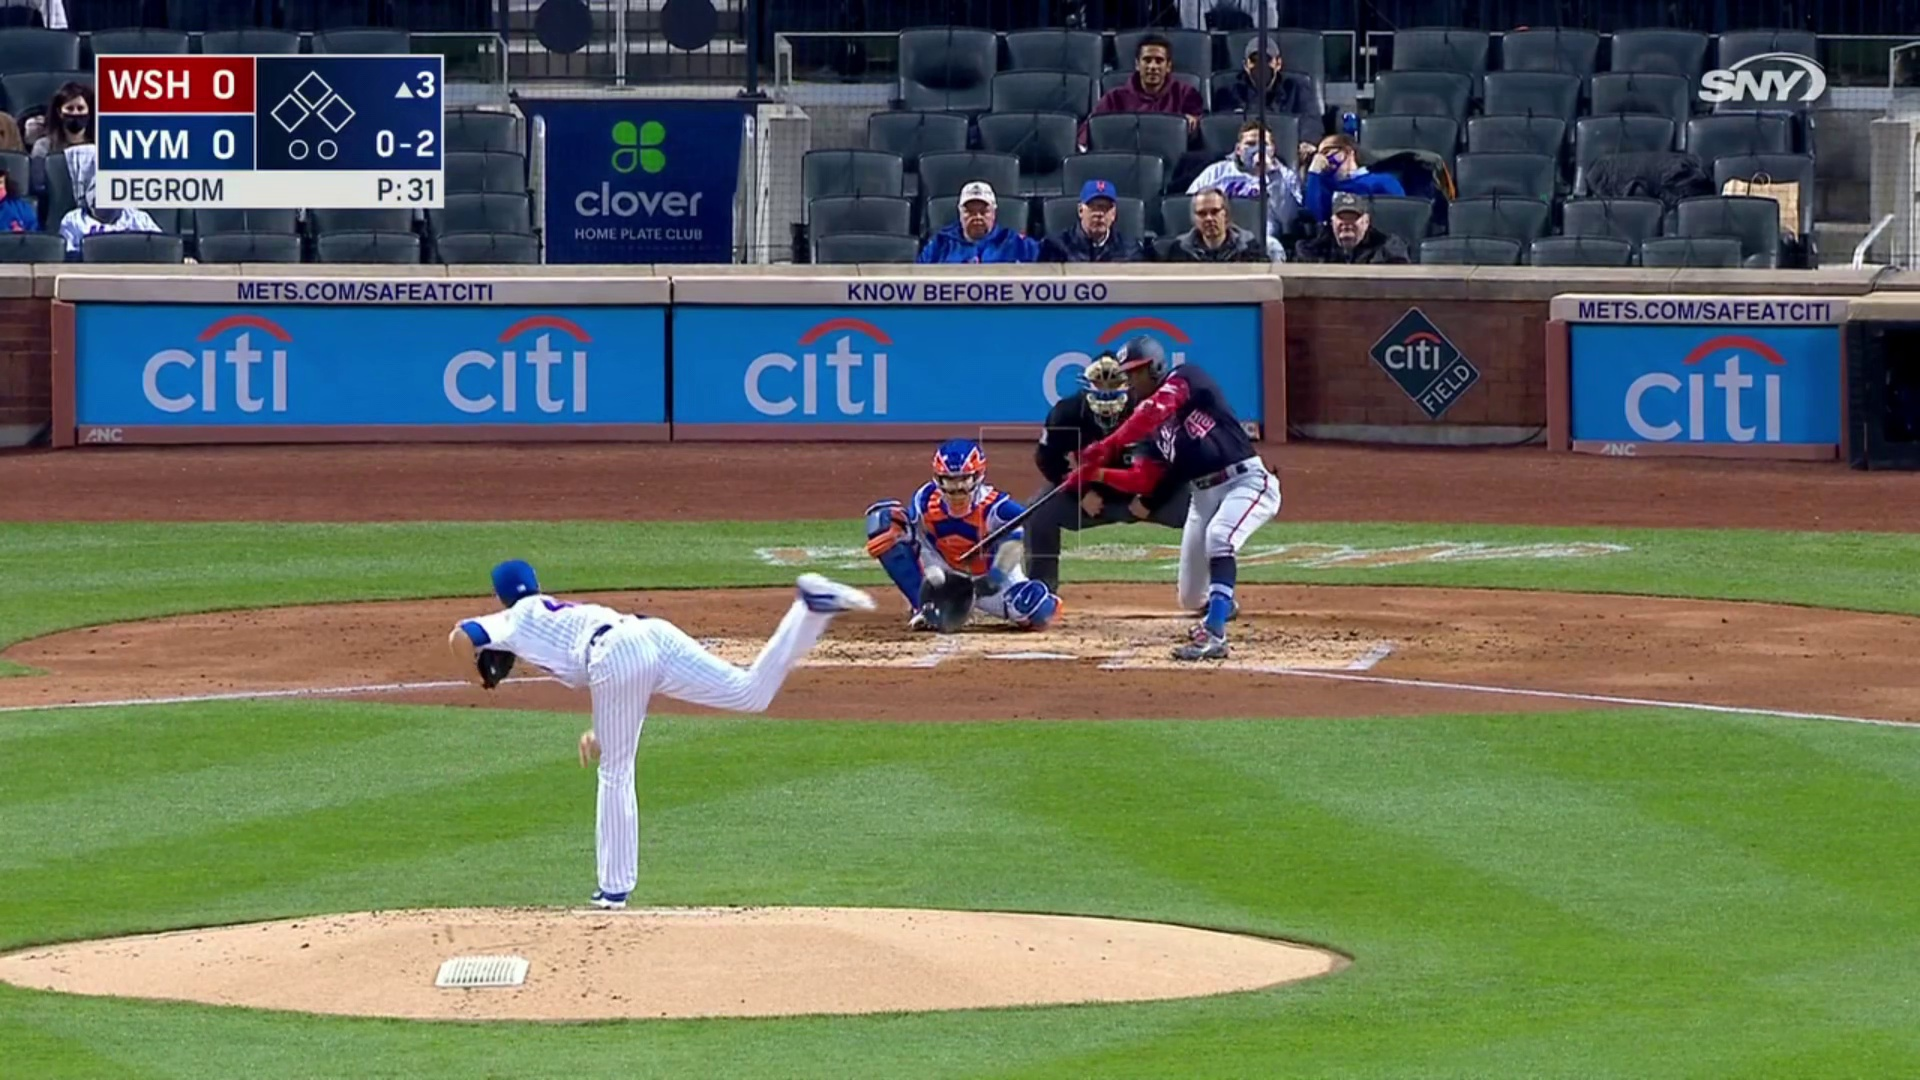baseball: (924, 564, 944, 585)
